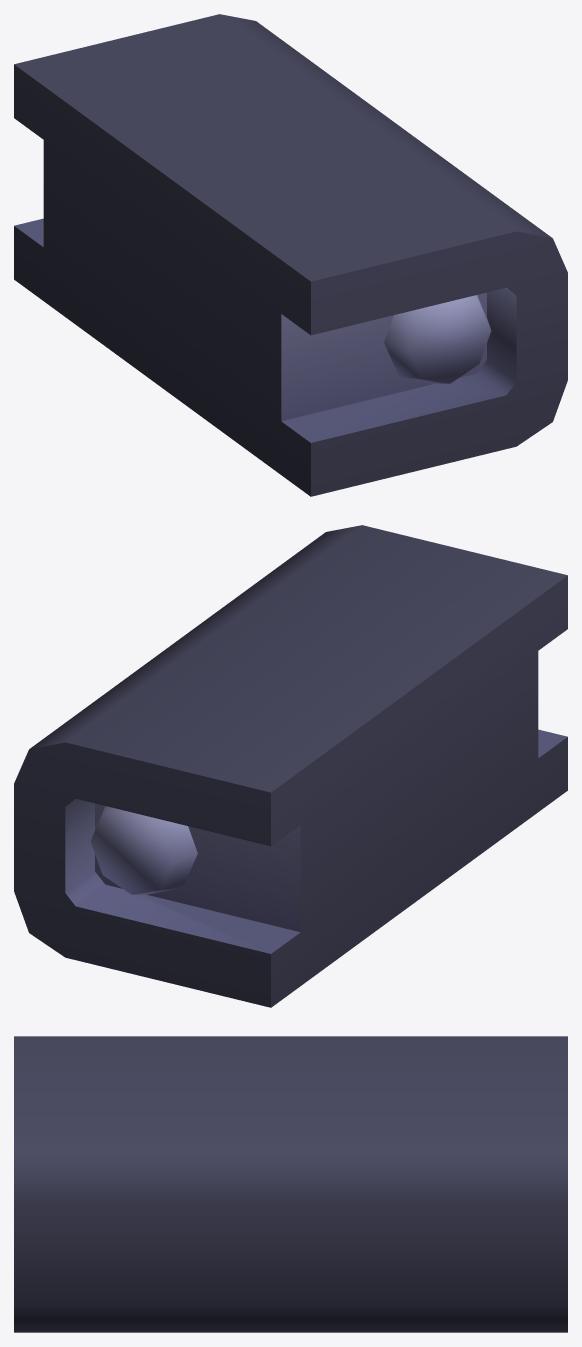
The model's file is kenney-factory-conveyor-long-part-end.glb.
3 renders of one model, top to bottom at view 1: azimuth 30°, elevation 25°; view 2: azimuth 150°, elevation 25°; view 3: azimuth 270°, elevation 25°, orthographic. The views are drawn at different scales.
Visible parts, largest first — view 1: conveyor-long-part-end; view 2: conveyor-long-part-end; view 3: conveyor-long-part-end.
Boxes of the visible parts, x1,y1,x2,y2 form: conveyor-long-part-end: (14, 14, 567, 496); conveyor-long-part-end: (14, 525, 567, 1007); conveyor-long-part-end: (14, 1036, 567, 1332).
Size of the model in its own units: 0.75 by 0.6 by 1.5.
1 material, 1 textured.
